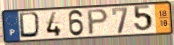4: (45, 11, 63, 38)
5: (132, 5, 155, 34)
6: (67, 9, 85, 37)
7: (111, 6, 130, 35)
D: (18, 11, 43, 40)
P: (86, 7, 110, 36)
